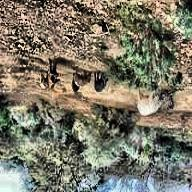boar: (134, 83, 164, 123), (73, 65, 99, 88), (47, 61, 59, 90), (92, 73, 104, 97), (73, 85, 76, 96)
